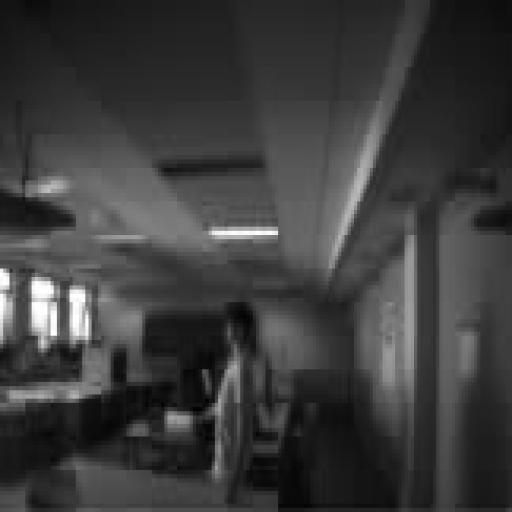human: (196, 303, 265, 503)
